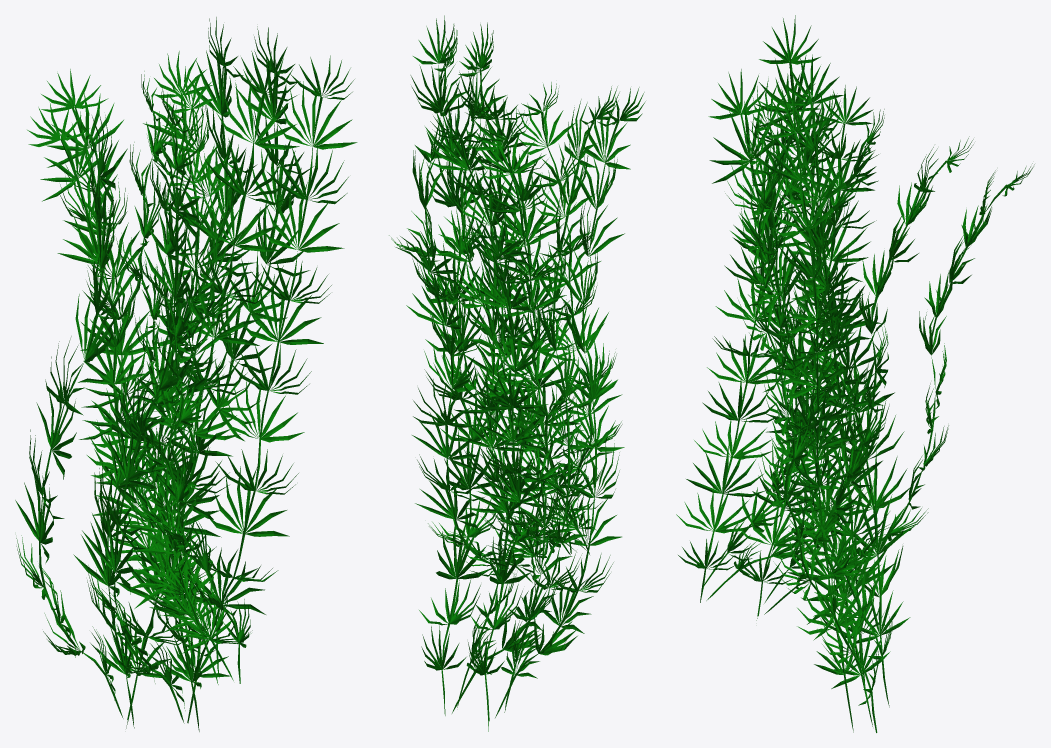
The model's file is algae.fbx.
3 views of the same model, side by side, from view 1: azimuth 30°, elevation 25°; view 2: azimuth 150°, elevation 25°; view 3: azimuth 270°, elevation 25° (orthographic). The views are drawn at different scales.
Visible parts, largest first — view 1: Grass_aqua, Grass_aqu0; view 2: Grass_aqua, Grass_aqu0; view 3: Grass_aqua, Grass_aqu0.
Boxes of the visible parts, <box> form: Grass_aqua: <box>15,17,357,731</box>; Grass_aqu0: <box>27,51,256,684</box>; Grass_aqua: <box>404,15,645,731</box>; Grass_aqu0: <box>389,82,622,584</box>; Grass_aqua: <box>708,15,915,732</box>; Grass_aqu0: <box>676,73,1034,620</box>.
Size of the model in its own units: 1.04 by 2.64 by 1.28.
